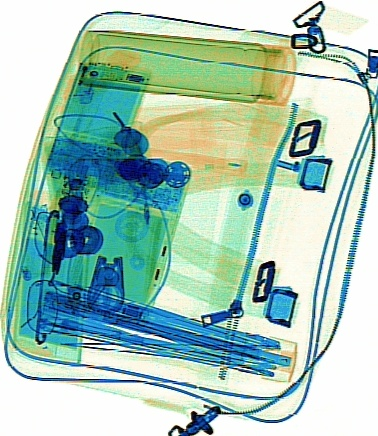scissors: (84, 251, 126, 315)
